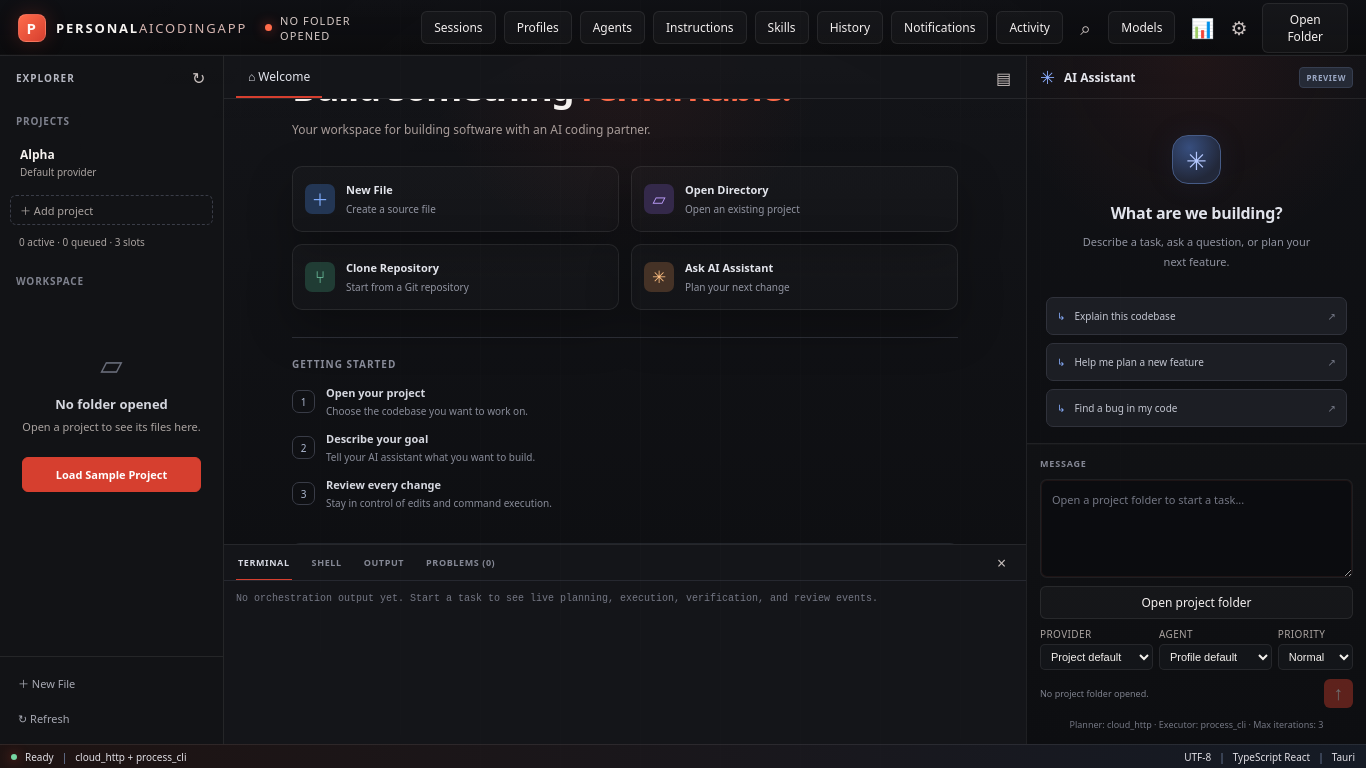
Scenario: Model preferences and token usage UI › shows token usage load errors and supports backend-confirmed clear
Expected: the text "Alpha" is shown, x1=20 y1=146 x2=55 y2=163
Click the button titled "Token Usage".
click(1199, 28)  # box x1=1183 y1=12 x2=1215 y2=42
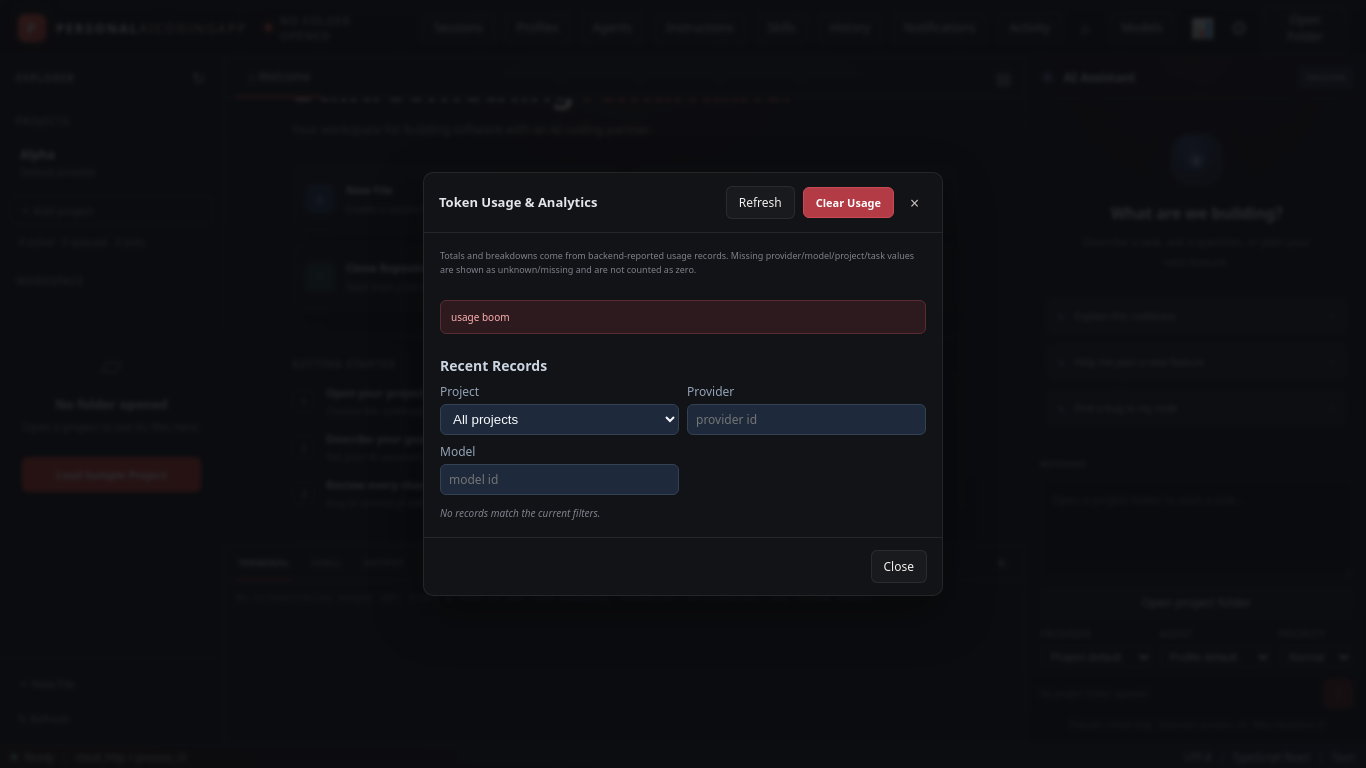
Result: the message reads "usage boom" at x1=451 y1=310 x2=510 y2=324
Click the button "Refresh".
click(760, 202)  # box x1=726 y1=186 x2=795 y2=219
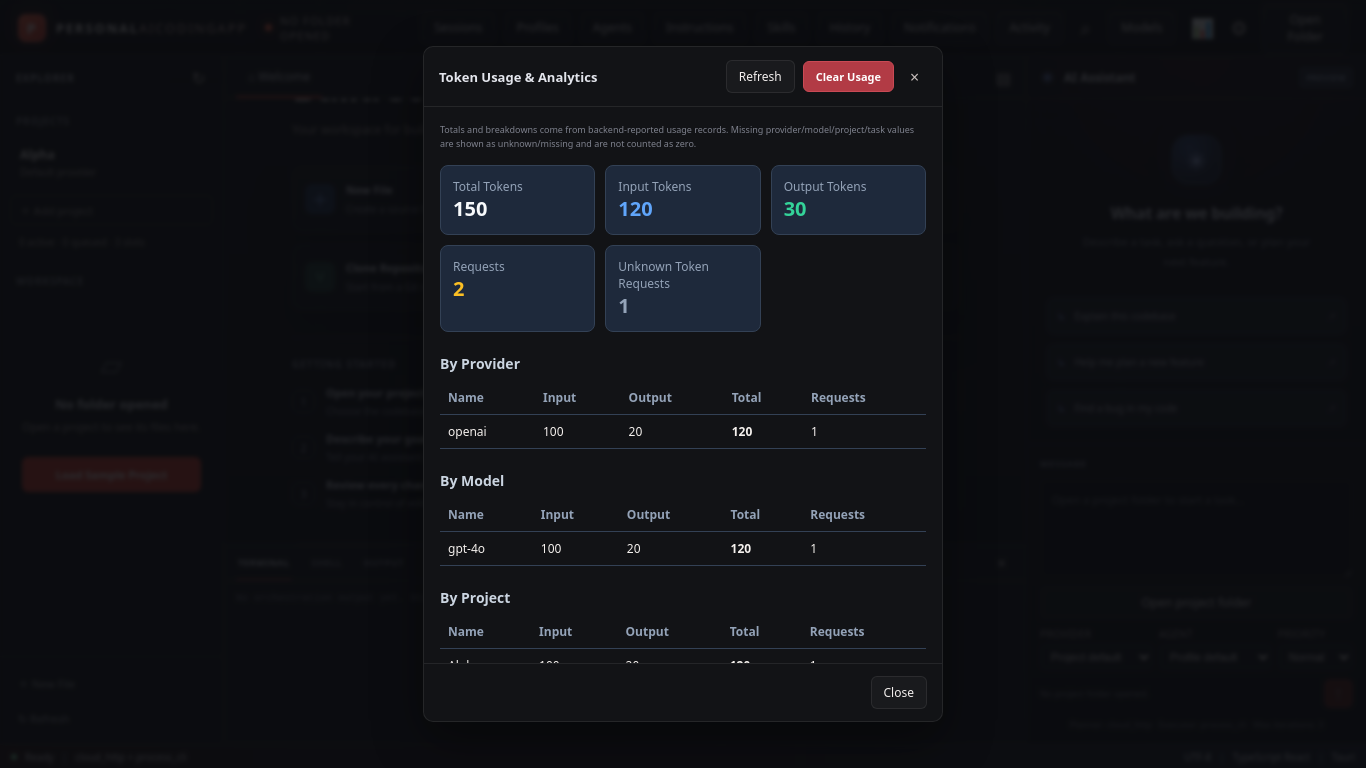
Click the button "Clear Usage".
click(848, 77)  # box x1=803 y1=61 x2=894 y2=92
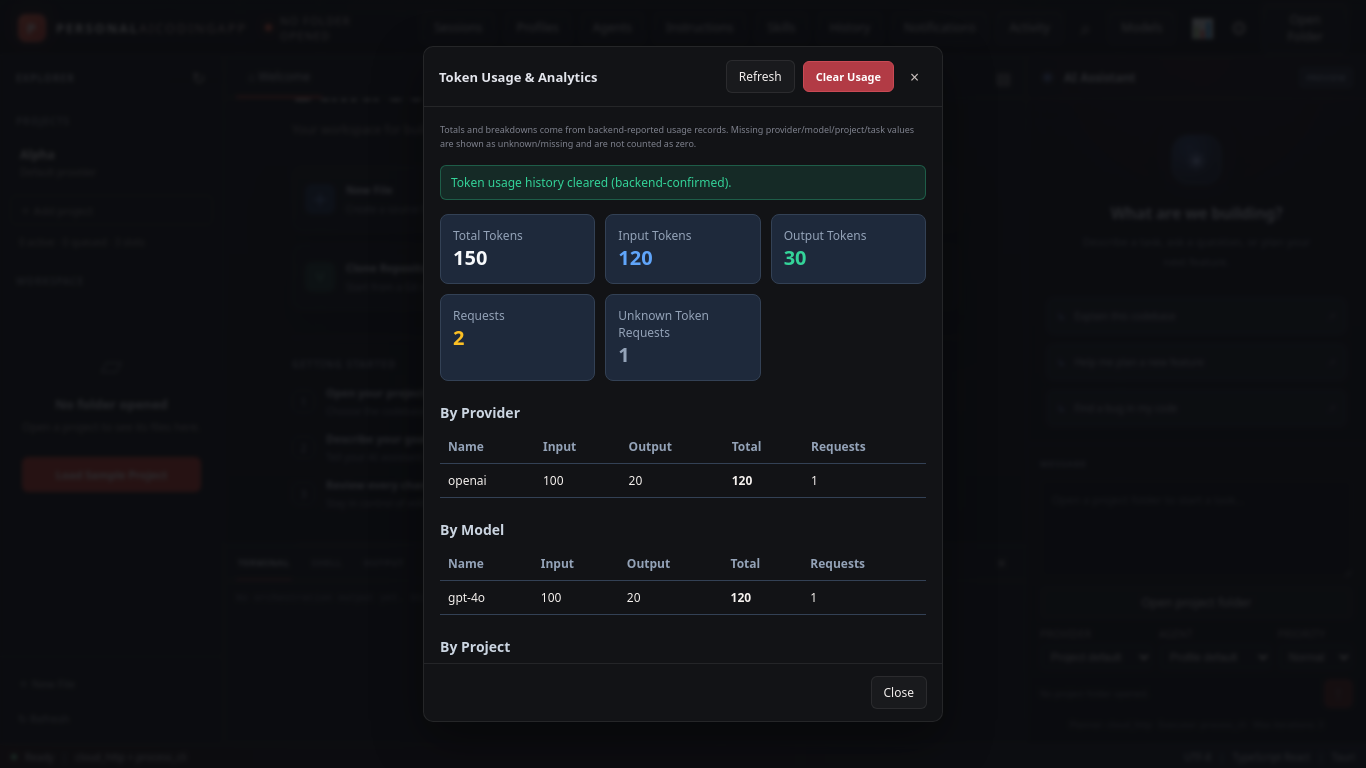
Result: the message shows "backend-confirmed" at x1=451 y1=174 x2=732 y2=191
